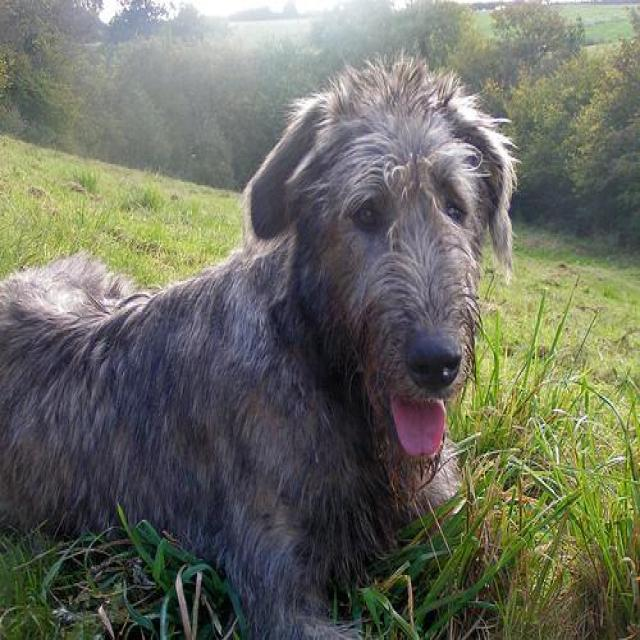irish_wolfhound: (0, 46, 525, 638)
